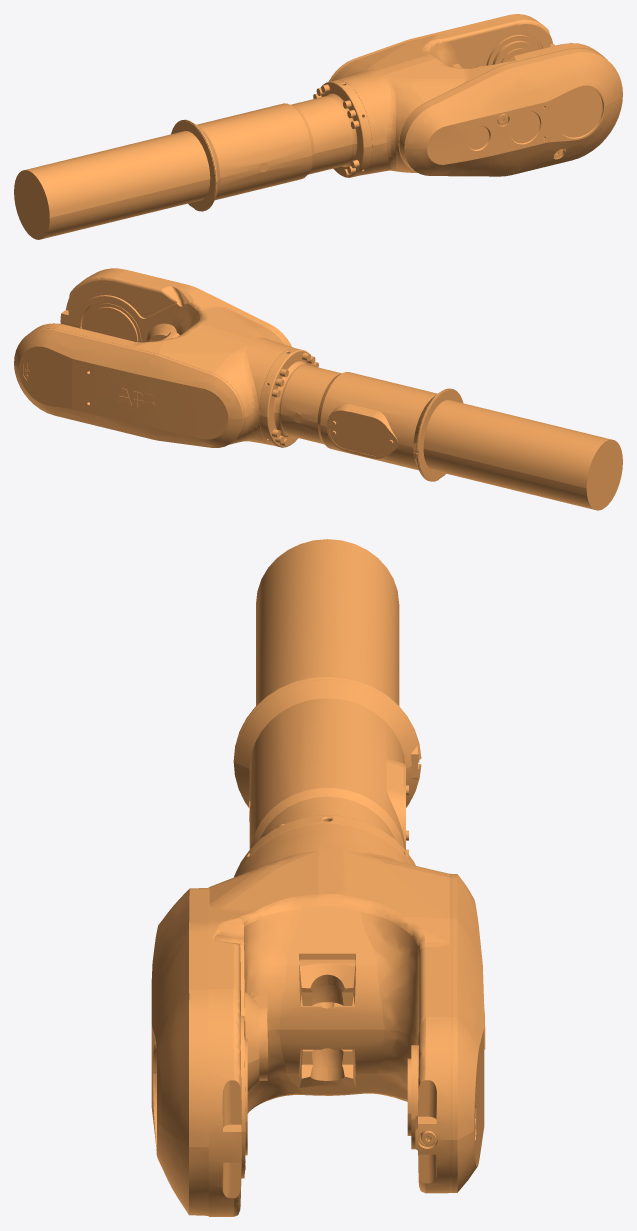
3 renders of one model, top to bottom at view 1: azimuth 30°, elevation 25°; view 2: azimuth 150°, elevation 25°; view 3: azimuth 270°, elevation 25°, orthographic. The views are drawn at different scales.
Visible parts, largest first — view 1: mesh_0; view 2: mesh_0; view 3: mesh_0.
Boxes of the visible parts, left/top/right/bottom form: mesh_0: left=14, top=14, right=622, bottom=239; mesh_0: left=14, top=268, right=622, bottom=510; mesh_0: left=151, top=539, right=485, bottom=1216.
Bounding box in the file's own units: 1.53 × 0.284 × 0.3965.
